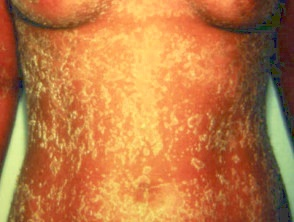SJS-TEN: (7, 0, 291, 221)
